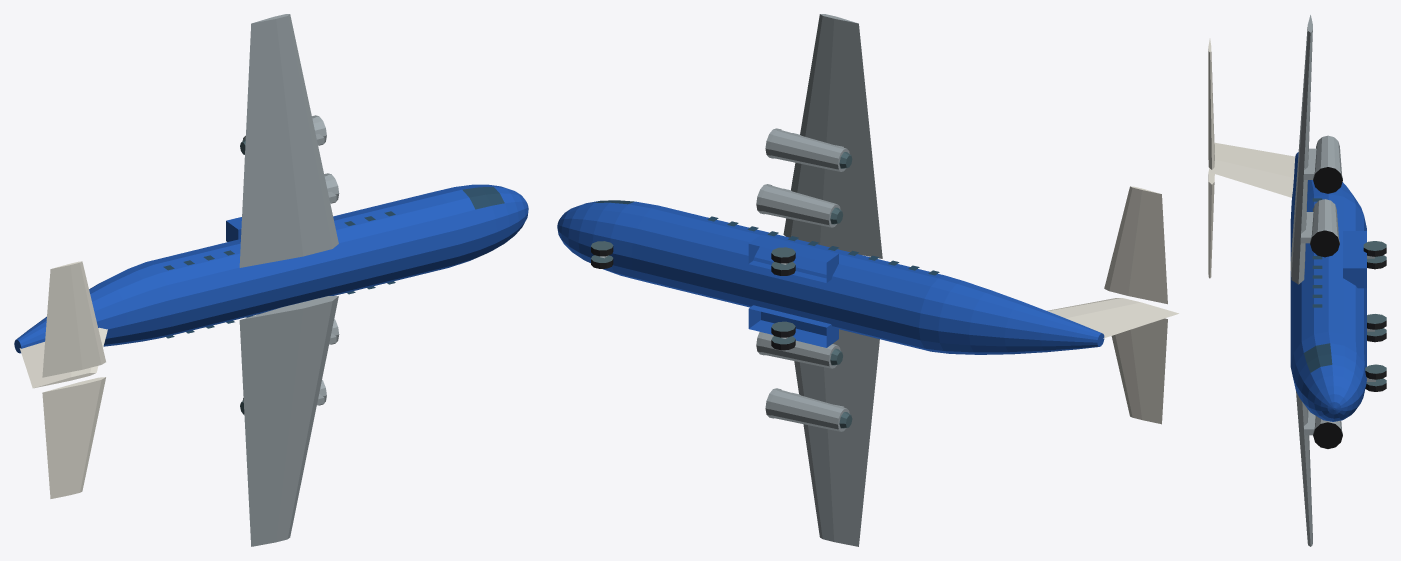
3 renders of one model, left to right at view 1: azimuth 30°, elevation 25°; view 2: azimuth 150°, elevation 25°; view 3: azimuth 270°, elevation 25°, orthographic.
Visible parts, largest first — view 1: default_fuselage, default_wing1, default_wing-1, default_tailplane-1, default_tailplane1, default_fin1; view 2: default_fuselage, default_wing1, default_wing-1, default_tailplane1, default_tailplane-1, default_fin1, default_engine3.5-1, default_engine1.91, default_engine3.51, default_gear_pod-1, default_gear_pod1, default_engine1.9-1; view 3: default_fuselage, default_fin1, default_wing1, default_engine1.91, default_engine3.51, default_gear_pod1, default_wing-1, default_tailplane1, default_tailplane-1, default_engine3.5-1, default_engine3.5-1_lip, default_engine3.51_lip (+10 smaller).
Part boxes in pixels (x1,y1,x2,y2): default_fuselage: (14, 184, 528, 353); default_wing1: (239, 14, 338, 267); default_wing-1: (239, 296, 338, 546); default_tailplane-1: (42, 377, 105, 498); default_tailplane1: (42, 261, 105, 377); default_fin1: (19, 327, 107, 388); default_fuselage: (557, 200, 1104, 354); default_wing1: (783, 14, 882, 258); default_wing-1: (794, 329, 879, 546); default_tailplane1: (1104, 186, 1167, 304); default_tailplane-1: (1111, 318, 1167, 424); default_fin1: (1047, 298, 1178, 338); default_engine3.5-1: (769, 389, 849, 431); default_engine1.91: (760, 185, 840, 227); default_engine3.51: (769, 129, 849, 171); default_gear_pod-1: (748, 305, 838, 347); default_gear_pod1: (748, 234, 838, 282); default_engine1.9-1: (760, 333, 840, 368); default_fuselage: (1290, 152, 1366, 421); default_fin1: (1210, 142, 1295, 197); default_wing1: (1290, 15, 1312, 284); default_engine1.91: (1310, 199, 1339, 256); default_engine3.51: (1313, 135, 1342, 192); default_gear_pod1: (1343, 231, 1366, 288); default_wing-1: (1296, 391, 1312, 546); default_tailplane1: (1208, 38, 1214, 169); default_tailplane-1: (1208, 168, 1214, 278); default_engine3.5-1: (1313, 416, 1342, 448); default_engine3.5-1_lip: (1313, 420, 1342, 448); default_engine3.51_lip: (1313, 165, 1342, 193).
Bounding box in the file's own units: 15.7 × 14.1 × 4.43.
